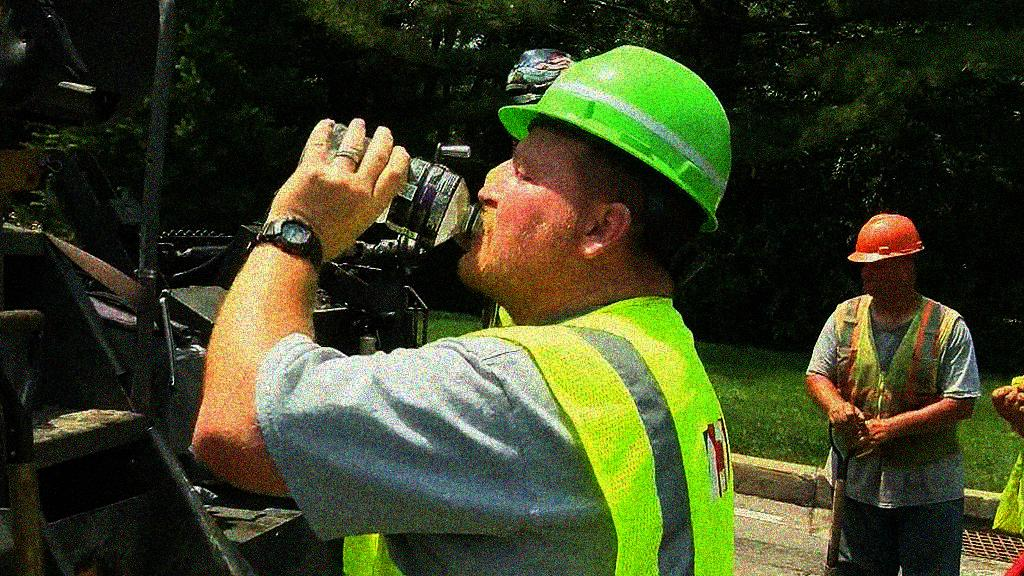helmet: (461, 43, 736, 301), (849, 209, 922, 296)
